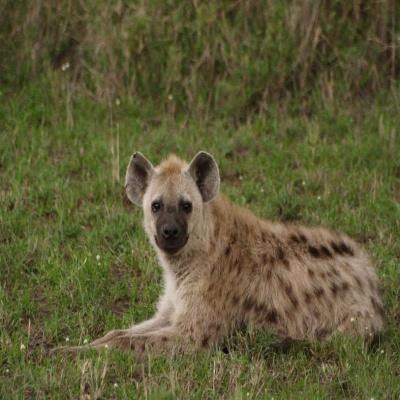hyenas: (88, 132, 400, 365)
